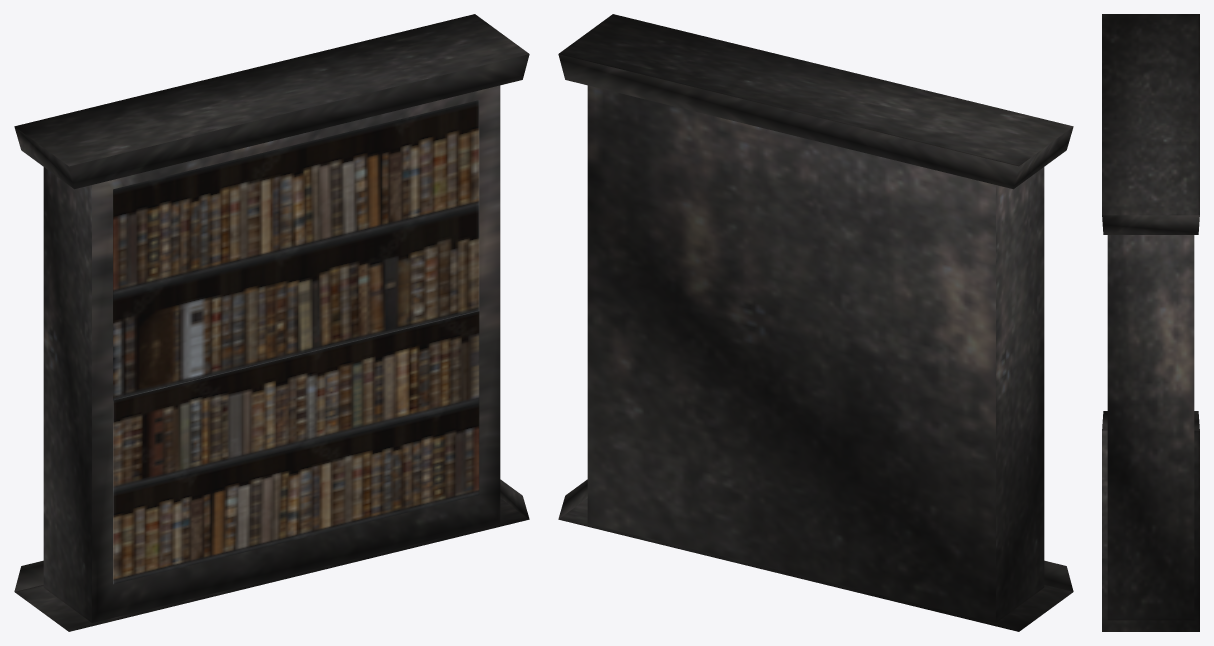
The model's file is Bookshelf_2.fbx.
3 renders of one model, left to right at view 1: azimuth 30°, elevation 25°; view 2: azimuth 150°, elevation 25°; view 3: azimuth 270°, elevation 25°, orthographic. The views are drawn at different scales.
Visible parts, largest first — view 1: Bookshelf2; view 2: Bookshelf2; view 3: Bookshelf2.
Part boxes in pixels (bbox=[...]): Bookshelf2: bbox=[14, 14, 529, 631]; Bookshelf2: bbox=[558, 14, 1073, 631]; Bookshelf2: bbox=[1102, 14, 1199, 631].
Bounding box in the file's own units: 240 × 232 × 49.36.
Materials: 1 (1 with a texture image).
